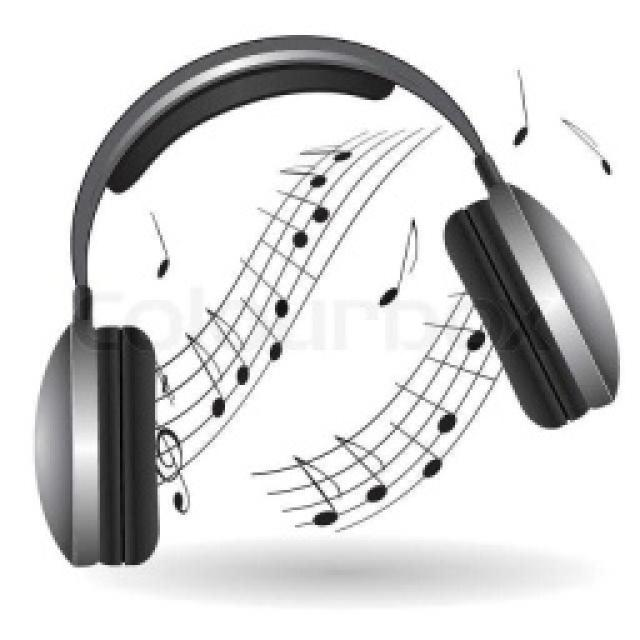headphones: (32, 30, 620, 568)
